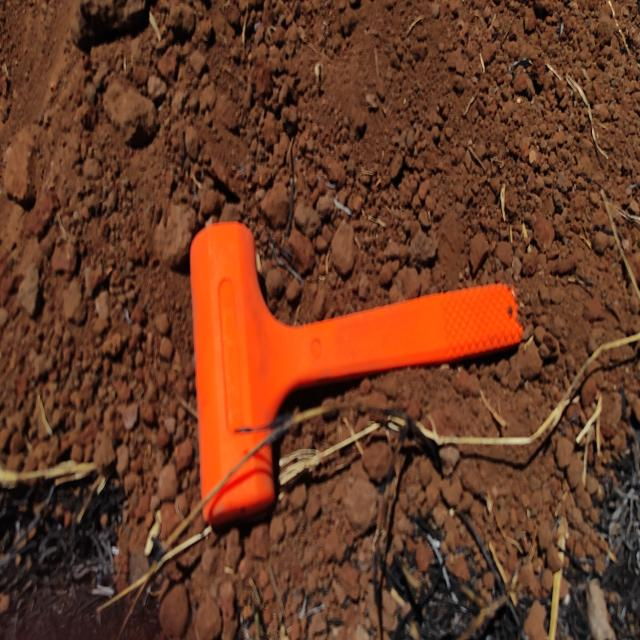Orange_hammer: (188, 219, 524, 528)
rock: (101, 67, 165, 149), (1, 122, 36, 210), (74, 0, 152, 39), (11, 236, 44, 322), (152, 579, 193, 640), (160, 0, 200, 47)
